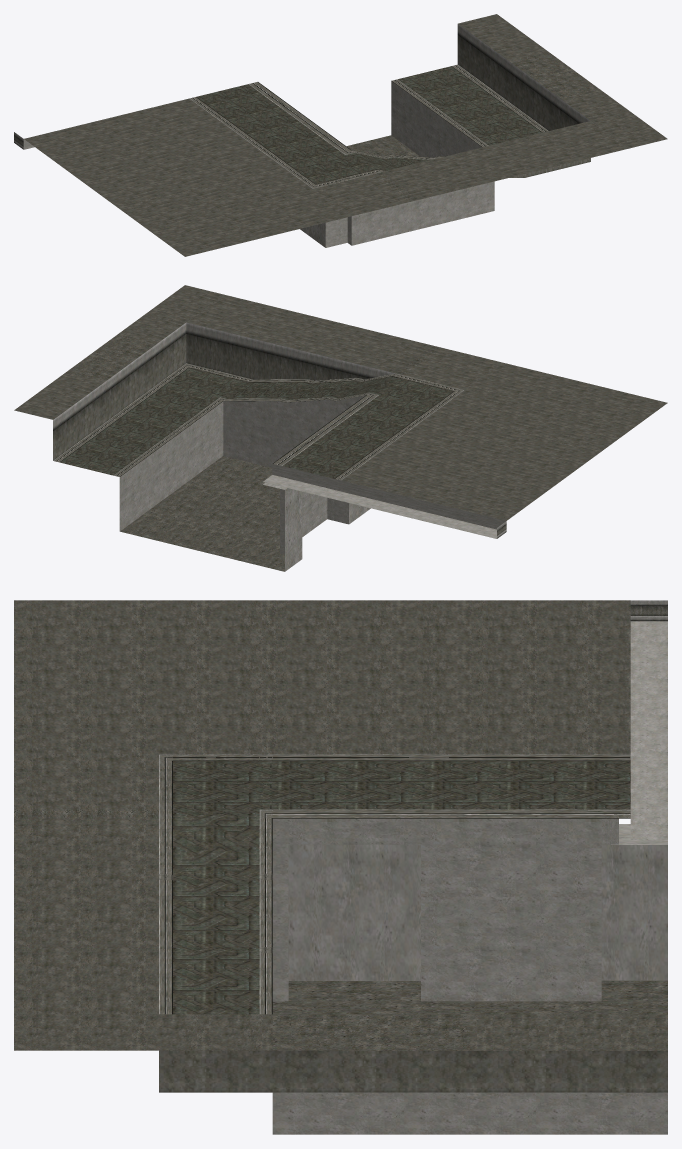
Rendered from DWARF_PALACE_GEAR_ROOM_FLOORB.fbx.
3 views of the same model, one above another, from view 1: azimuth 30°, elevation 25°; view 2: azimuth 150°, elevation 25°; view 3: azimuth 270°, elevation 25° (orthographic). The views are drawn at different scales.
Visible parts, largest first — view 1: DWARF_PALACE_GEAR_ROOM_FLOORB; view 2: DWARF_PALACE_GEAR_ROOM_FLOORB; view 3: DWARF_PALACE_GEAR_ROOM_FLOORB.
Part boxes in pixels (<box>): DWARF_PALACE_GEAR_ROOM_FLOORB: <box>14,14,667,256</box>; DWARF_PALACE_GEAR_ROOM_FLOORB: <box>14,285,667,571</box>; DWARF_PALACE_GEAR_ROOM_FLOORB: <box>14,600,667,1134</box>.
Bounding box in the file's own units: 370042 × 69991 × 226975.
7 materials, 7 textured.
